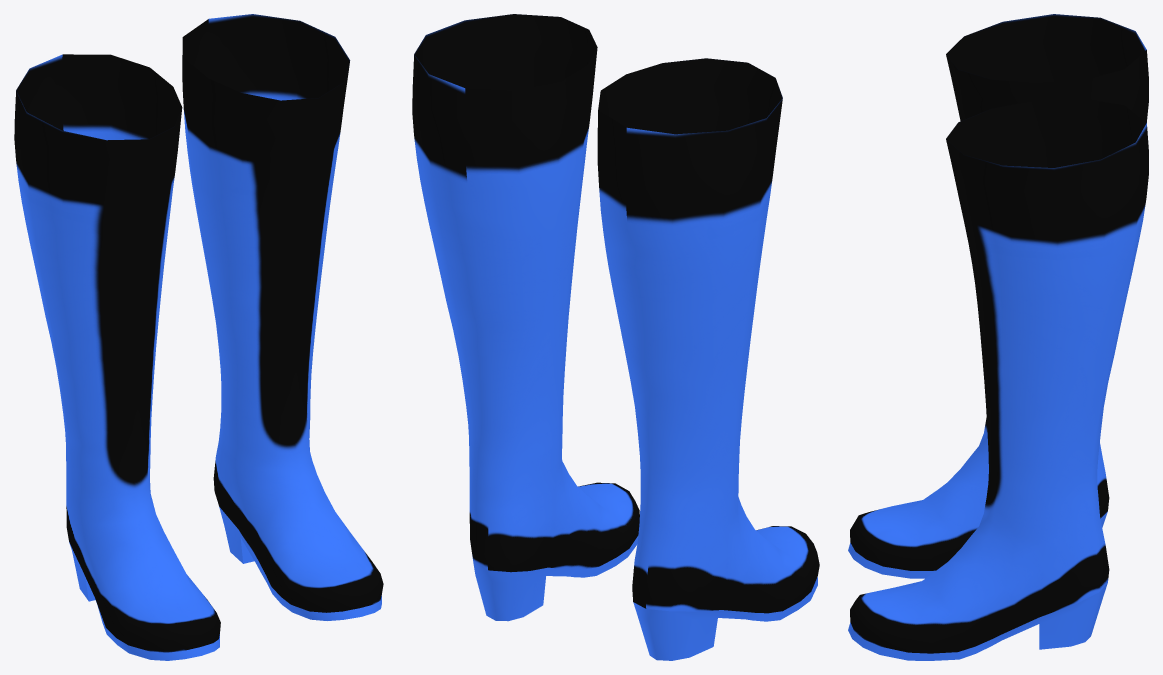
File: boot-knight.glb
3 views of the same model, side by side, from view 1: azimuth 30°, elevation 25°; view 2: azimuth 150°, elevation 25°; view 3: azimuth 270°, elevation 25° (orthographic). The views are drawn at different scales.
Visible parts, largest first — view 1: boot-knight; view 2: boot-knight; view 3: boot-knight.
Part boxes in pixels (bbox=[...]): boot-knight: bbox=[14, 14, 383, 660]; boot-knight: bbox=[412, 14, 819, 660]; boot-knight: bbox=[848, 14, 1148, 660].
Size of the model in its own units: 0.3286 by 0.5109 by 0.2711.
1 material, 1 textured.
